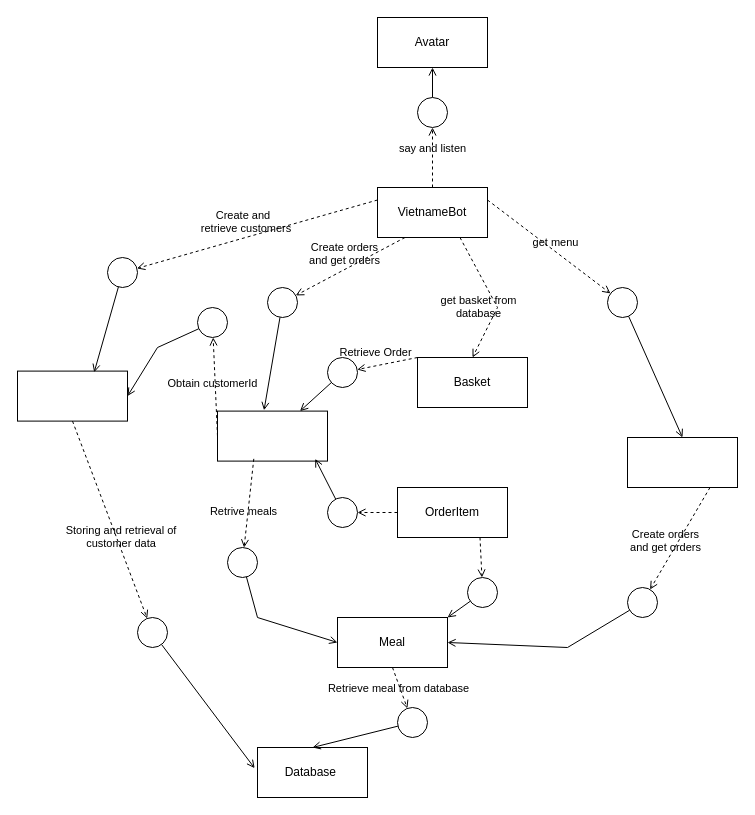
Some shapes in this 755 by 815 pixel diagram are drawn without their labels. The shapes that lost their labels are listed below. From the top down, each one's centre as x and y in pixels, then its label:
At pixel 72 395: "Customer".
At pixel 272 435: "Order".
At pixel 682 462: "Menu".
